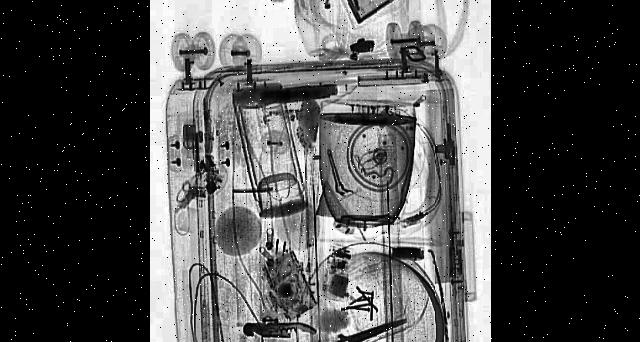Knife: (325, 310, 406, 342)
